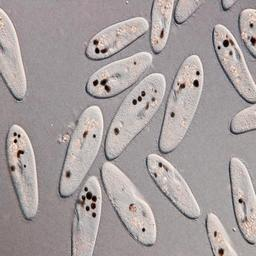Paramecium: (105, 72, 166, 161), (100, 161, 158, 246), (159, 53, 204, 153), (59, 105, 103, 197), (146, 154, 202, 219), (213, 23, 256, 103), (5, 123, 40, 220), (87, 53, 152, 99), (85, 17, 149, 59), (0, 8, 28, 101), (70, 176, 102, 255), (230, 157, 256, 245), (206, 213, 239, 255), (151, 0, 173, 53), (239, 7, 256, 59), (230, 105, 256, 135), (174, 0, 206, 23)
